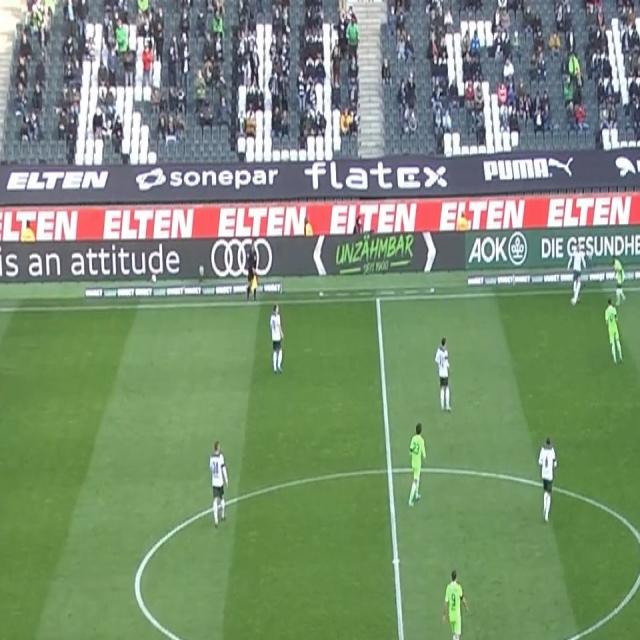ball: (570, 295, 577, 307)
